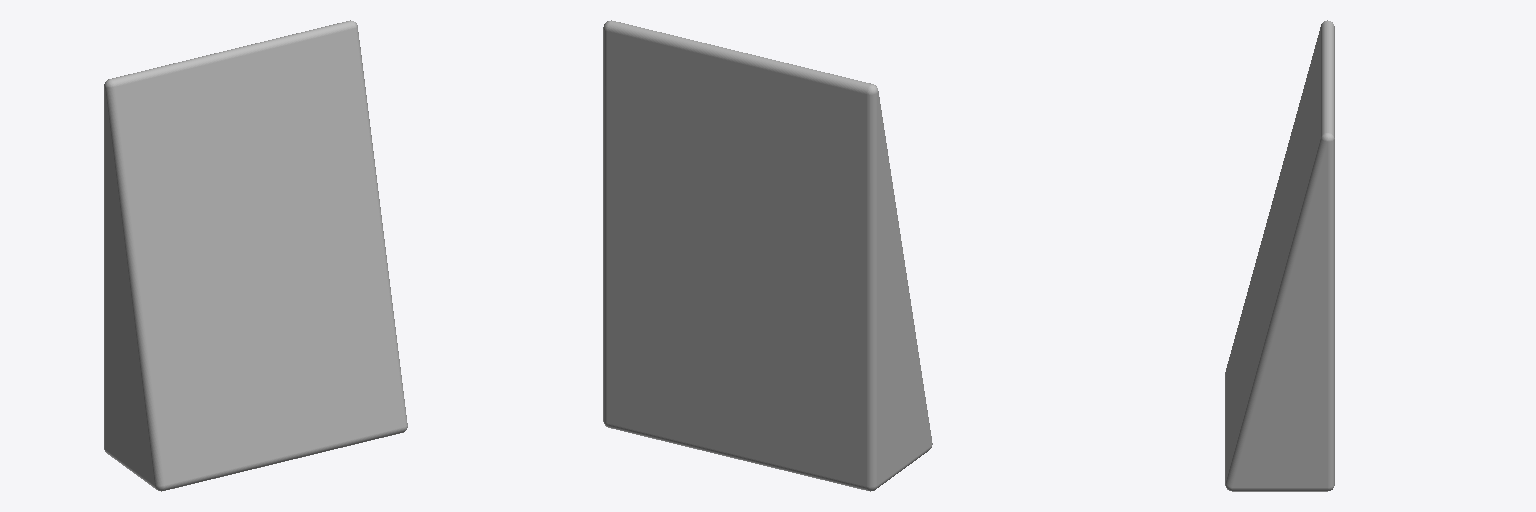
The robot description file, URDF, robot "root":
<robot name="root">
  <link name="link_wedge_long_convex_piece_0">
    <inertial>
      <origin xyz="0 0 0" rpy="0 0 0"/>
      <mass value="2.17E-01"/>
      <inertia ixx="2.83E-04" ixy="-3.36E-14" ixz="-1.15E-13" iyy="4.32E-04" iyz="-3.31E-05" izz="1.84E-04"/>
    </inertial>
    <visual>
      <origin xyz="0 0 0" rpy="0 0 0"/>
      <geometry>
        <mesh filename="wedge_long_convex_piece_0.obj" scale="1.0000E+00 1.0000E+00 1.0000E+00"/>
      </geometry>
      <material name="">
        <color rgba="7.50E-01 7.50E-01 7.50E-01 1"/>
      </material>
    </visual>
    <collision>
      <origin xyz="0 0 0" rpy="0 0 0"/>
      <geometry>
        <mesh filename="wedge_long_convex_piece_0.obj" scale="1.0000E+00 1.0000E+00 1.0000E+00"/>
      </geometry>
    </collision>
  </link>
</robot>

--- Render facts (derived) ---
The picture shows the robot from 3 angles, left to right: view 1: azimuth 30°, elevation 25°; view 2: azimuth 150°, elevation 25°; view 3: azimuth 270°, elevation 25°; orthographic projection.
Model root with 1 links and 0 joints (none), rooted at link_wedge_long_convex_piece_0, posed every joint at zero.
Links seen in each view (by area): view 1: link_wedge_long_convex_piece_0; view 2: link_wedge_long_convex_piece_0; view 3: link_wedge_long_convex_piece_0.
Boxes of the visible links, x1,y1,x2,y2 form: link_wedge_long_convex_piece_0: [104, 20, 407, 491]; link_wedge_long_convex_piece_0: [603, 20, 932, 491]; link_wedge_long_convex_piece_0: [1225, 20, 1334, 491].
Size in the robot's own frame: 0.0964 by 0.0379 by 0.137 metres.
Meshes: 1 distinct files referenced, 1 mesh visuals loaded (1 OBJ).
